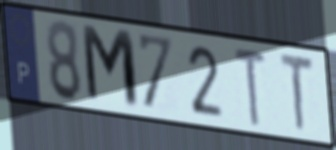2: (186, 43, 227, 119)
7: (136, 31, 176, 113)
8: (43, 17, 84, 104)
M: (78, 21, 143, 114)
T: (278, 50, 317, 135), (231, 44, 269, 130)
